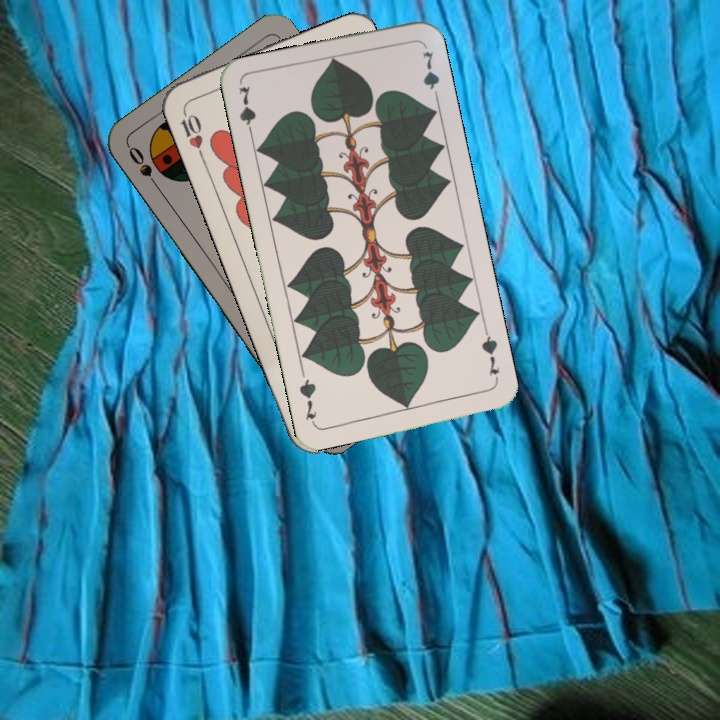G7: (234, 82, 259, 141), (477, 326, 502, 385)
H10: (176, 103, 206, 161)
SO: (124, 142, 164, 194)
